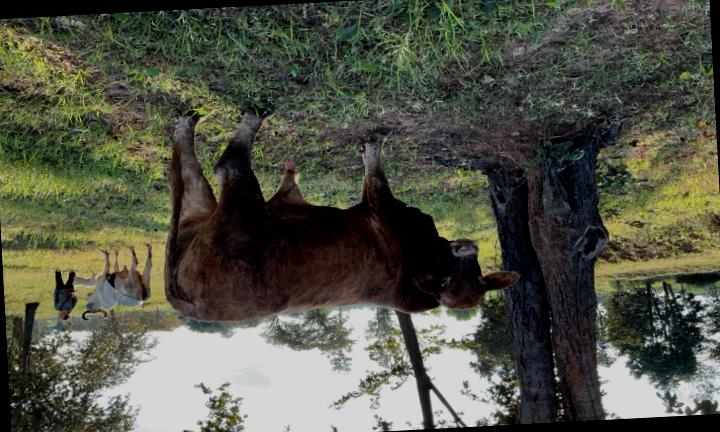Charolais: (164, 111, 518, 321)
